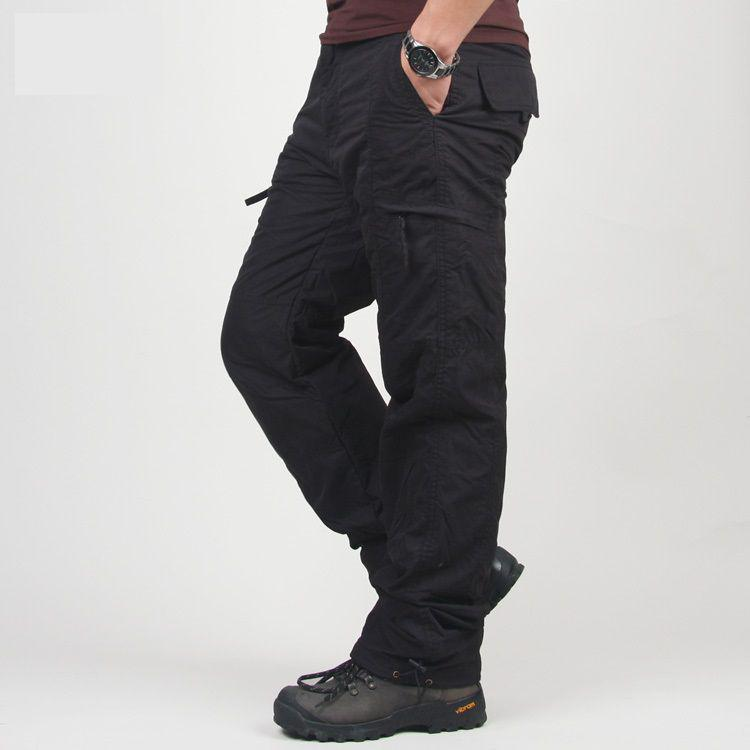pants: (223, 33, 539, 675)
